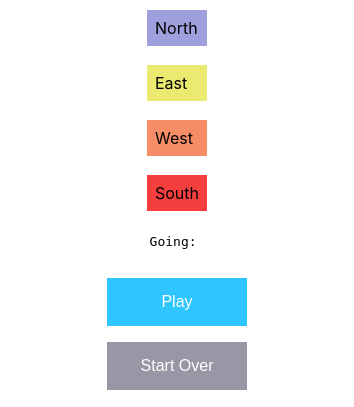
Test: fill player input when player clicks on directions
This screenshot has width=354, height=407.
Click the text with test id "e": coordinates (177, 83) [147,65,207,101]
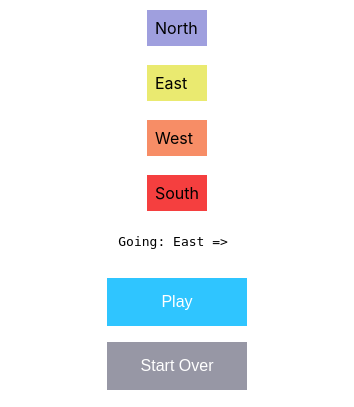
Result: the text with test id "player-directions" reads "Going: East =>" at [118,234,236,249]
Click the text with test id "w": coordinates (177, 138) [147,120,207,156]
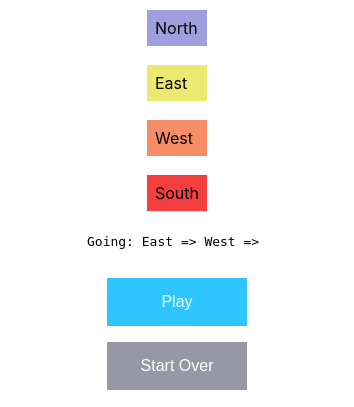
Result: the text with test id "player-directions" reads "Going: East => West =>" at [87,234,267,249]
Click the text with test id "n": coordinates (177, 28) [147,10,207,46]
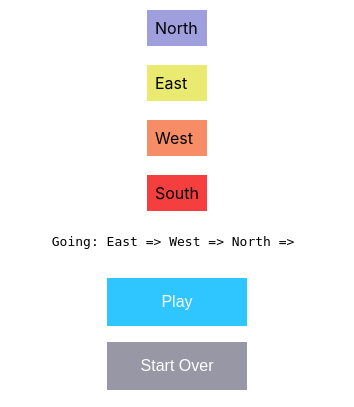
Result: the text with test id "player-directions" reads "Going: East => West => North =>" at [52,234,302,249]
Click the text with test id "s": coordinates (177, 193) [147,175,207,211]
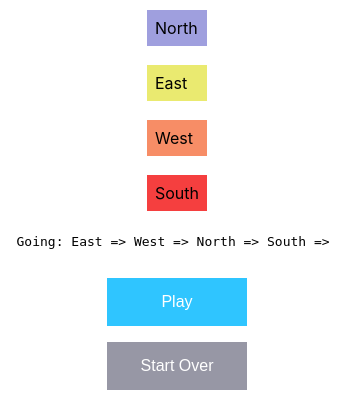
Result: the text with test id "player-directions" reads "Going: East => West => North => South =>" at [16,234,337,249]
